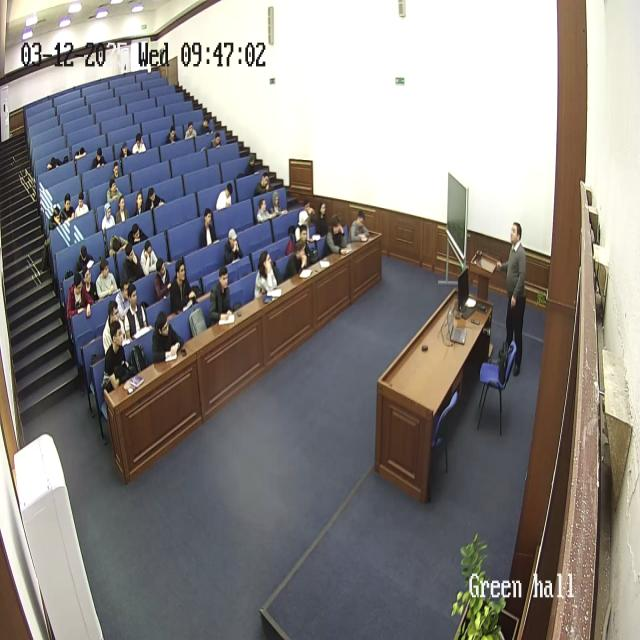person: (498, 223, 528, 379), (102, 322, 132, 393), (152, 310, 184, 364), (208, 266, 235, 328), (66, 273, 94, 326), (170, 260, 196, 314), (123, 286, 149, 340), (102, 300, 126, 356), (253, 248, 279, 299), (94, 259, 120, 301), (284, 238, 309, 280), (325, 213, 349, 256), (122, 241, 144, 284), (114, 275, 134, 321), (76, 244, 96, 287), (223, 226, 243, 266), (349, 208, 371, 244), (154, 260, 172, 302), (139, 240, 159, 277), (312, 197, 330, 235), (201, 209, 217, 248), (290, 220, 309, 250), (216, 180, 234, 210), (145, 186, 165, 212), (127, 220, 147, 246), (60, 192, 76, 224), (114, 194, 130, 225), (109, 228, 127, 255), (297, 199, 313, 229), (102, 201, 116, 235), (254, 170, 272, 196), (74, 191, 90, 220), (256, 197, 272, 224), (48, 207, 64, 232), (133, 190, 147, 218), (270, 190, 284, 217), (92, 145, 106, 171), (106, 180, 122, 202), (247, 152, 262, 175), (132, 132, 146, 154), (165, 123, 179, 145), (46, 156, 64, 172), (110, 161, 122, 184), (120, 140, 132, 161), (183, 122, 197, 140), (74, 147, 88, 165), (211, 134, 223, 150), (201, 119, 211, 136)
